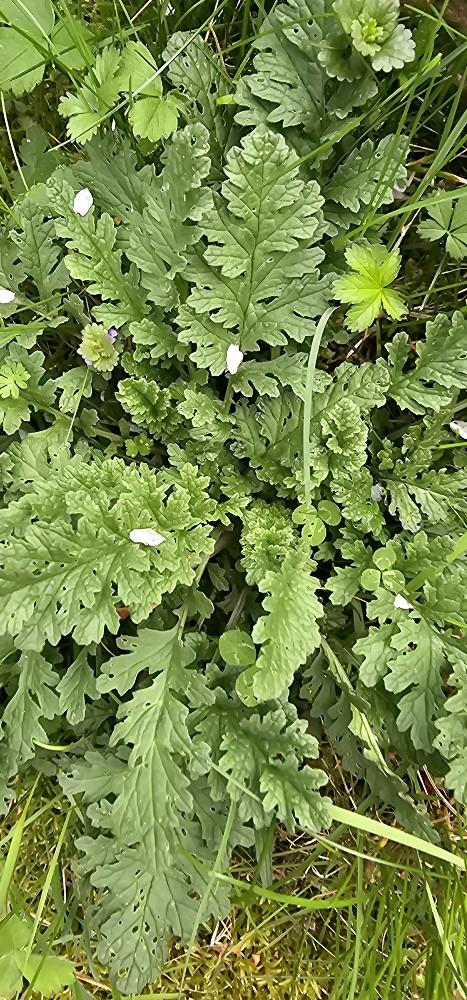Jacobaea vulgaris: (0, 119, 467, 851)
